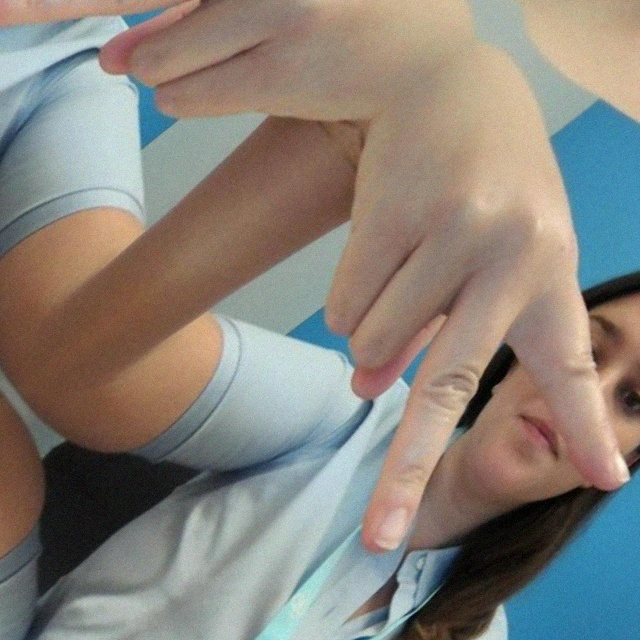Scissors: (235, 0, 640, 12)
